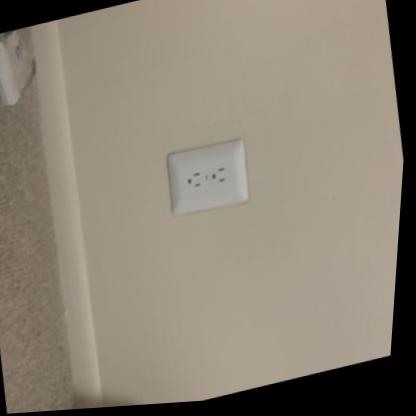OUTLET: (161, 136, 253, 218)
